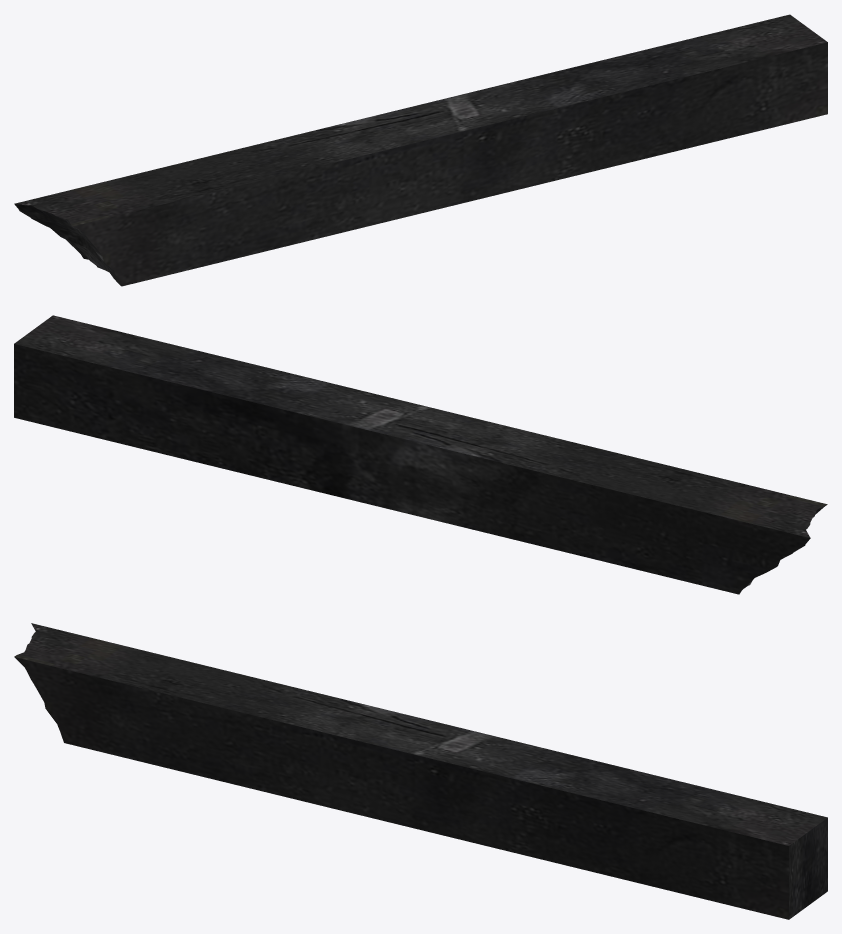
The model's file is SM_WoodBeam_05.fbx.
The picture shows the model from 3 angles, top to bottom: view 1: azimuth 30°, elevation 25°; view 2: azimuth 150°, elevation 25°; view 3: azimuth 330°, elevation 25°; orthographic projection. The views are drawn at different scales.
Parts seen in each view (by area): view 1: SM_WoodBeam_05; view 2: SM_WoodBeam_05; view 3: SM_WoodBeam_05.
Part boxes in pixels (left/top/right/bottom): SM_WoodBeam_05: left=14, top=14, right=827, bottom=286; SM_WoodBeam_05: left=14, top=315, right=827, bottom=594; SM_WoodBeam_05: left=14, top=623, right=827, bottom=919.
Size of the model in its own units: 186 by 15.72 by 16.43.
Materials: 1 (1 with a texture image).
